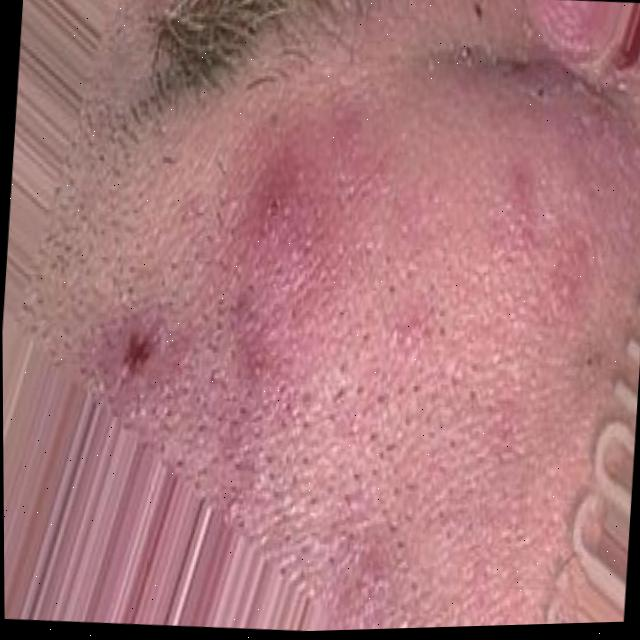Rosacea: (110, 115, 364, 402)
